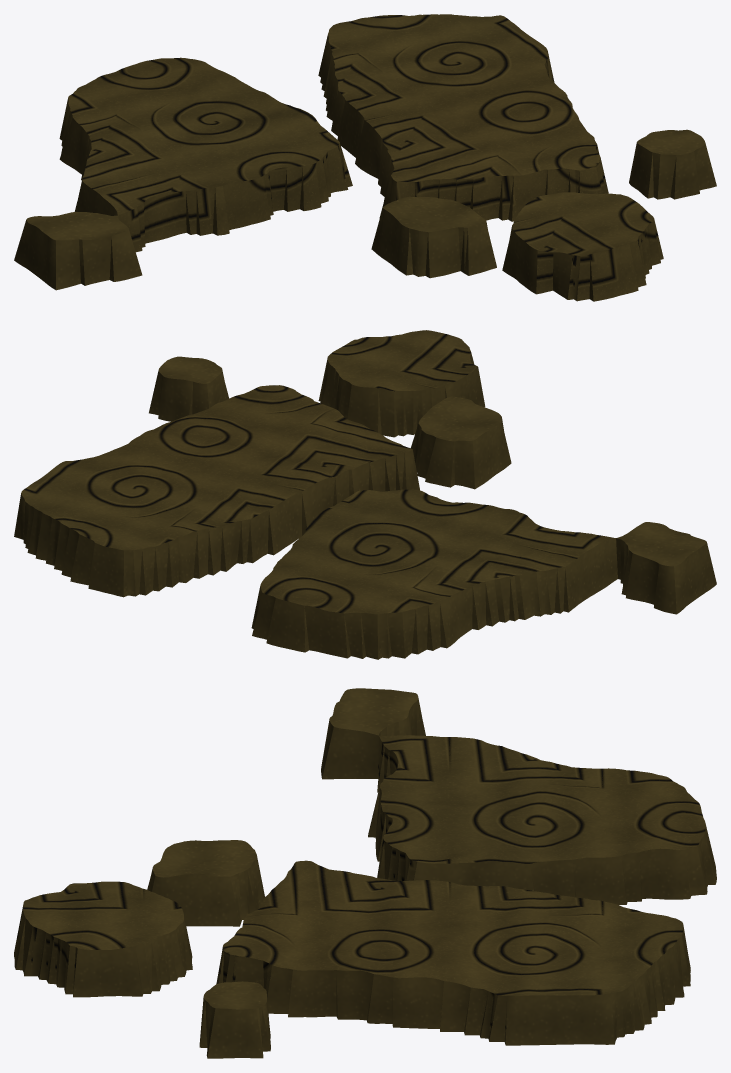
Rendered from CREHenge17.glb.
3 renders of one model, top to bottom at view 1: azimuth 30°, elevation 25°; view 2: azimuth 150°, elevation 25°; view 3: azimuth 270°, elevation 25°, orthographic. The views are drawn at different scales.
Visible parts, largest first — view 1: CREHenge17_tops; view 2: CREHenge17_tops; view 3: CREHenge17_tops.
Boxes of the visible parts, bbox=[...] form: CREHenge17_tops: bbox=[14, 14, 716, 301]; CREHenge17_tops: bbox=[14, 330, 716, 659]; CREHenge17_tops: bbox=[14, 688, 716, 1058].
Bounding box in the file's own units: 5.94 × 0.4299 × 5.47.
Materials: 2 (2 with a texture image).
